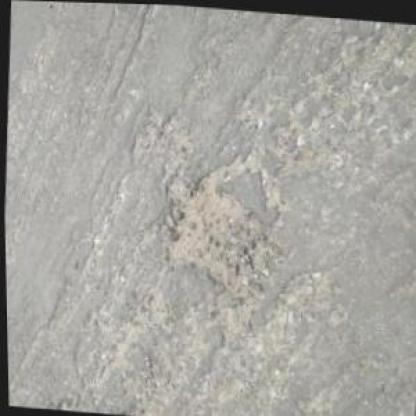pothole: (151, 156, 279, 296)
